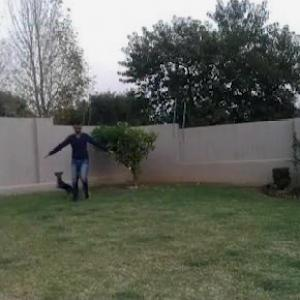land: (50, 118, 125, 208)
